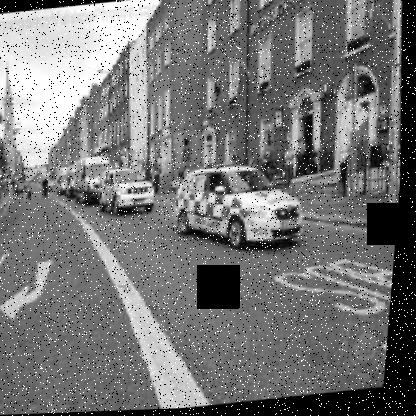emergency: (170, 156, 331, 265), (96, 162, 170, 215)
